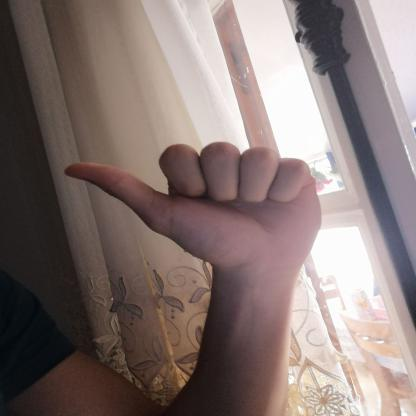DAD: (46, 133, 337, 281)
